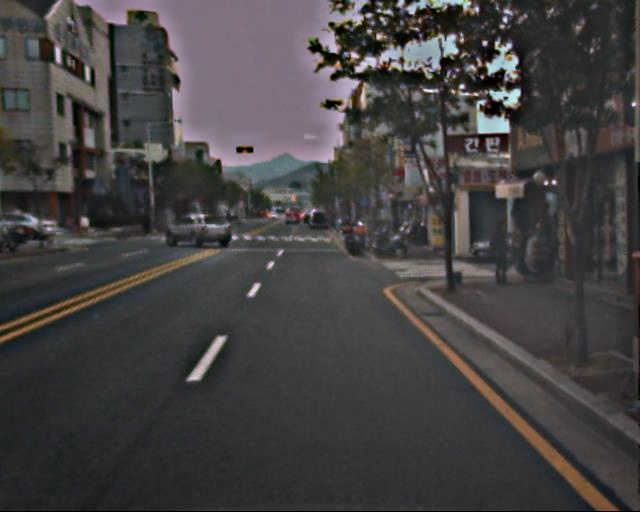person: (487, 220, 515, 288)
